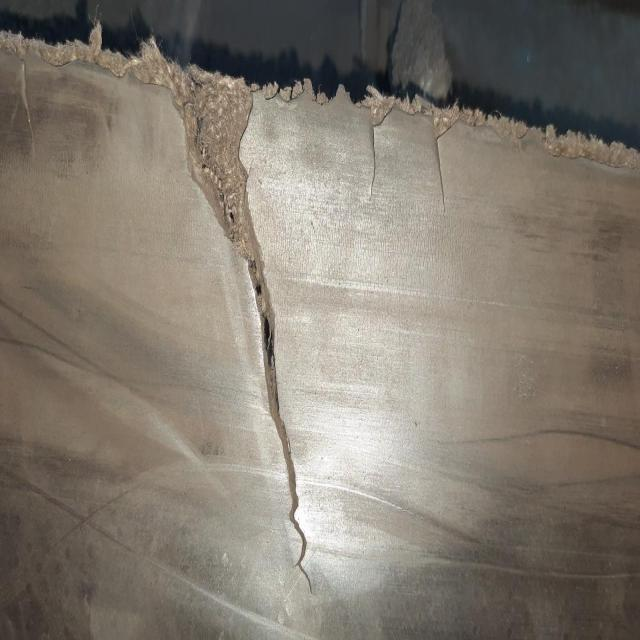Tear: (157, 77, 318, 598), (424, 118, 466, 218), (359, 104, 397, 204)
